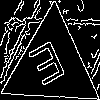E: (26, 39, 72, 96)
